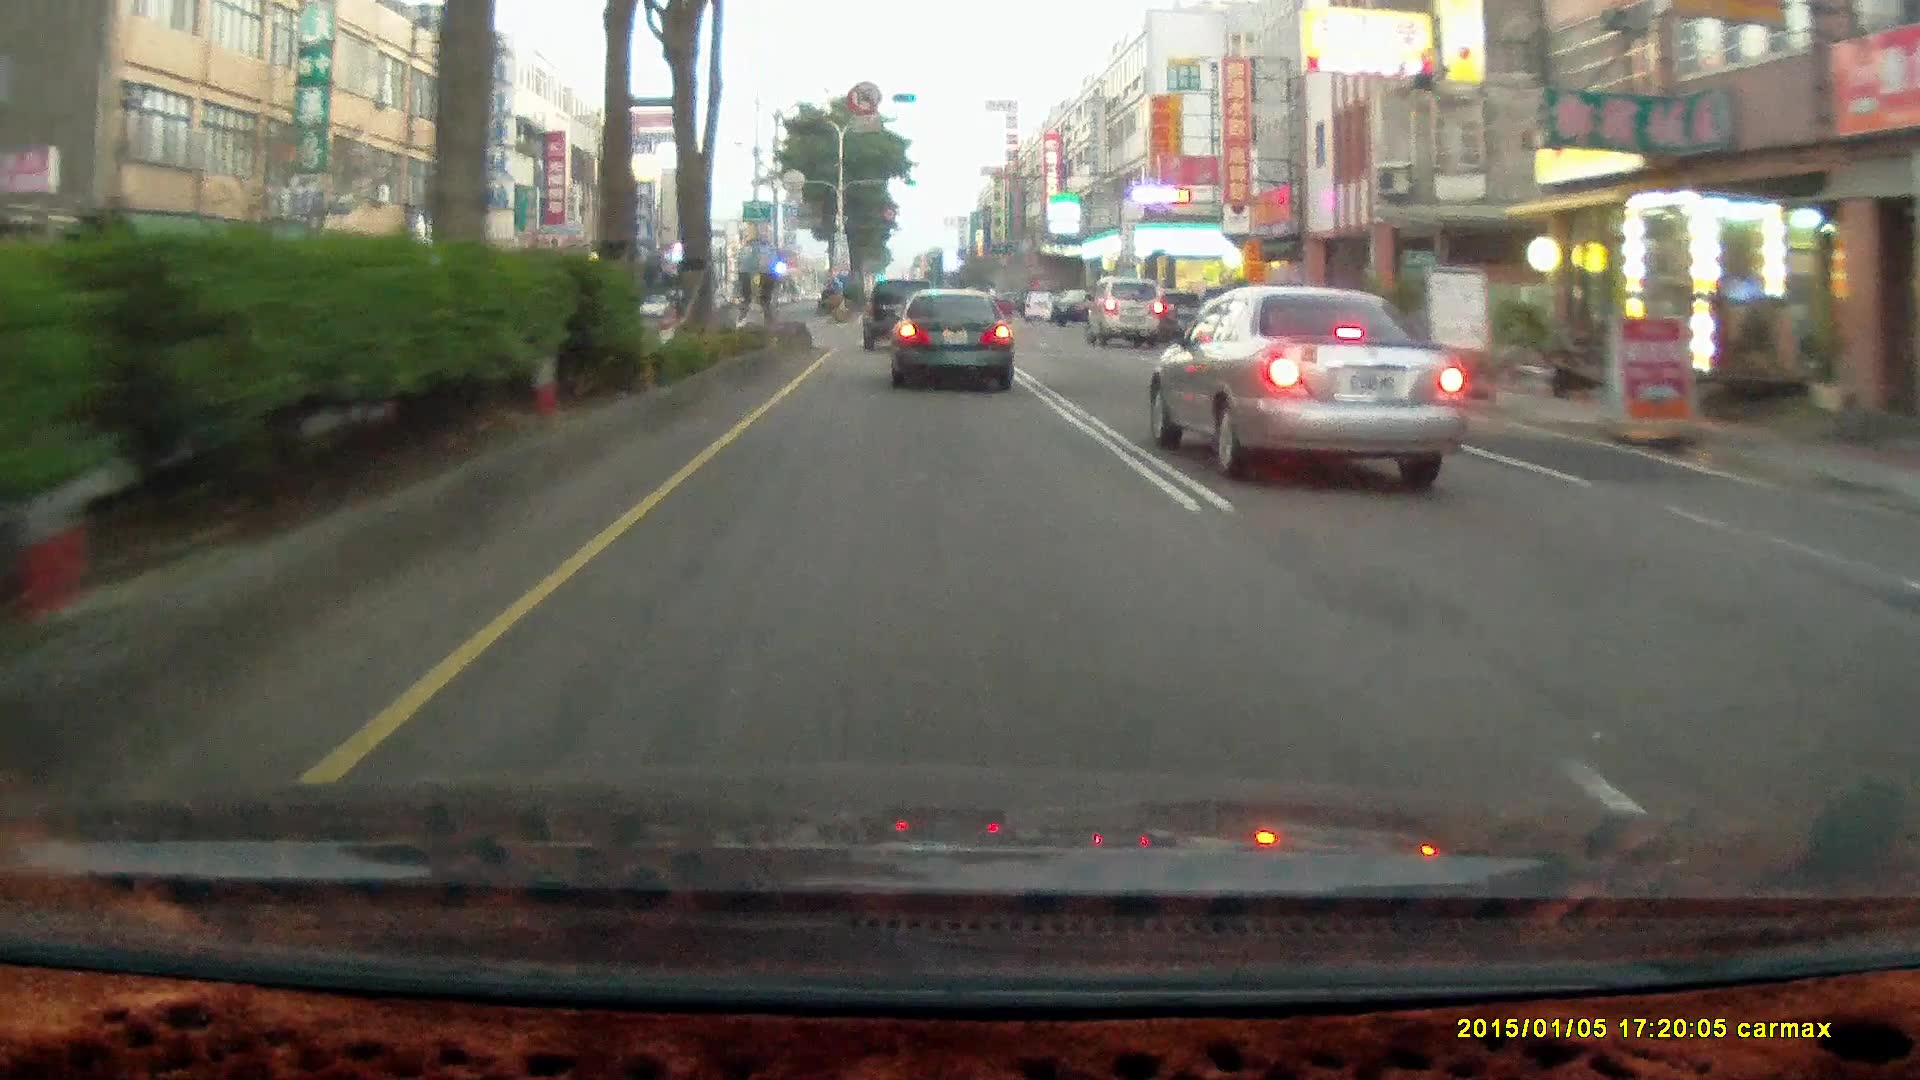vehicle: (1149, 286, 1466, 475), (889, 286, 1019, 396), (890, 285, 1011, 390), (861, 278, 942, 355), (861, 281, 938, 353), (1087, 278, 1164, 348), (1085, 278, 1163, 347), (1052, 284, 1110, 323), (1025, 287, 1056, 316)
